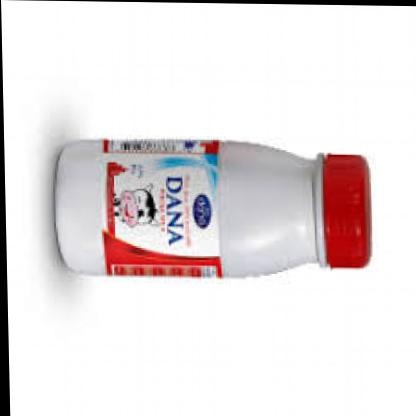trash: (55, 139, 369, 276)
